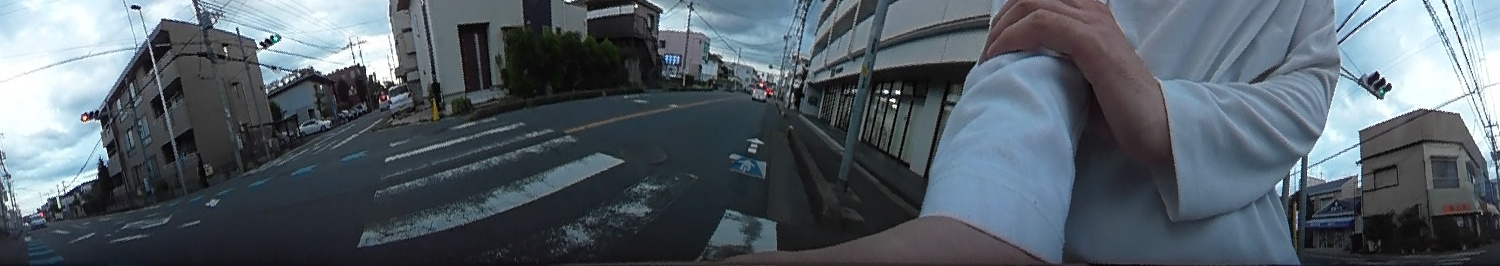difficult_person: (192, 150, 209, 187)
